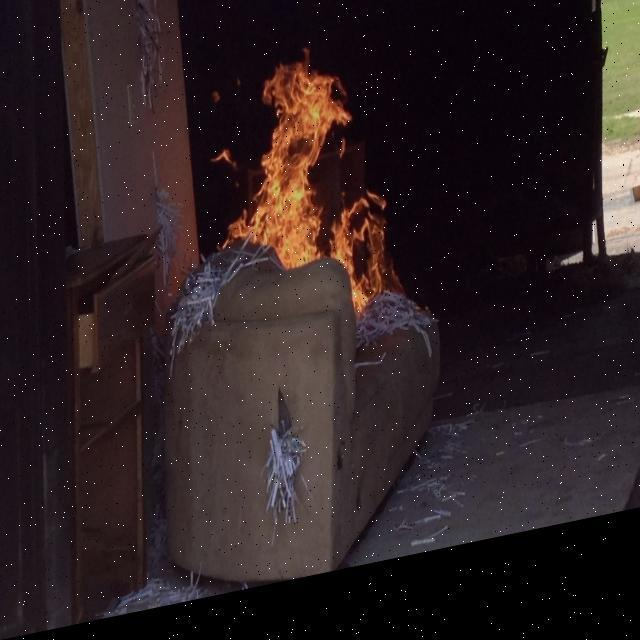Fire: (234, 26, 427, 351)
